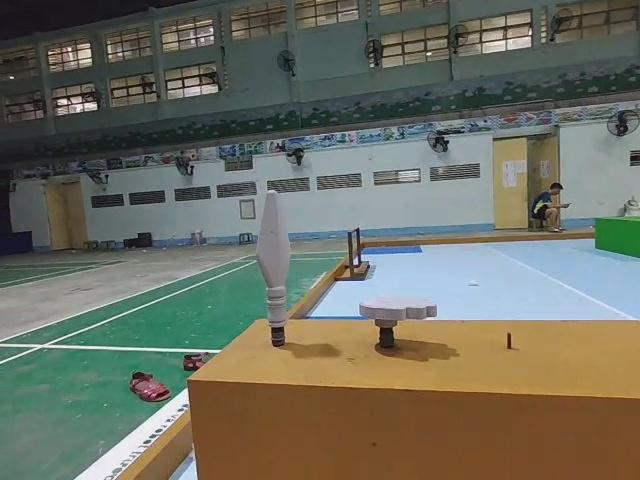Hand: (361, 293, 440, 354)
Sph: (256, 190, 296, 349)
